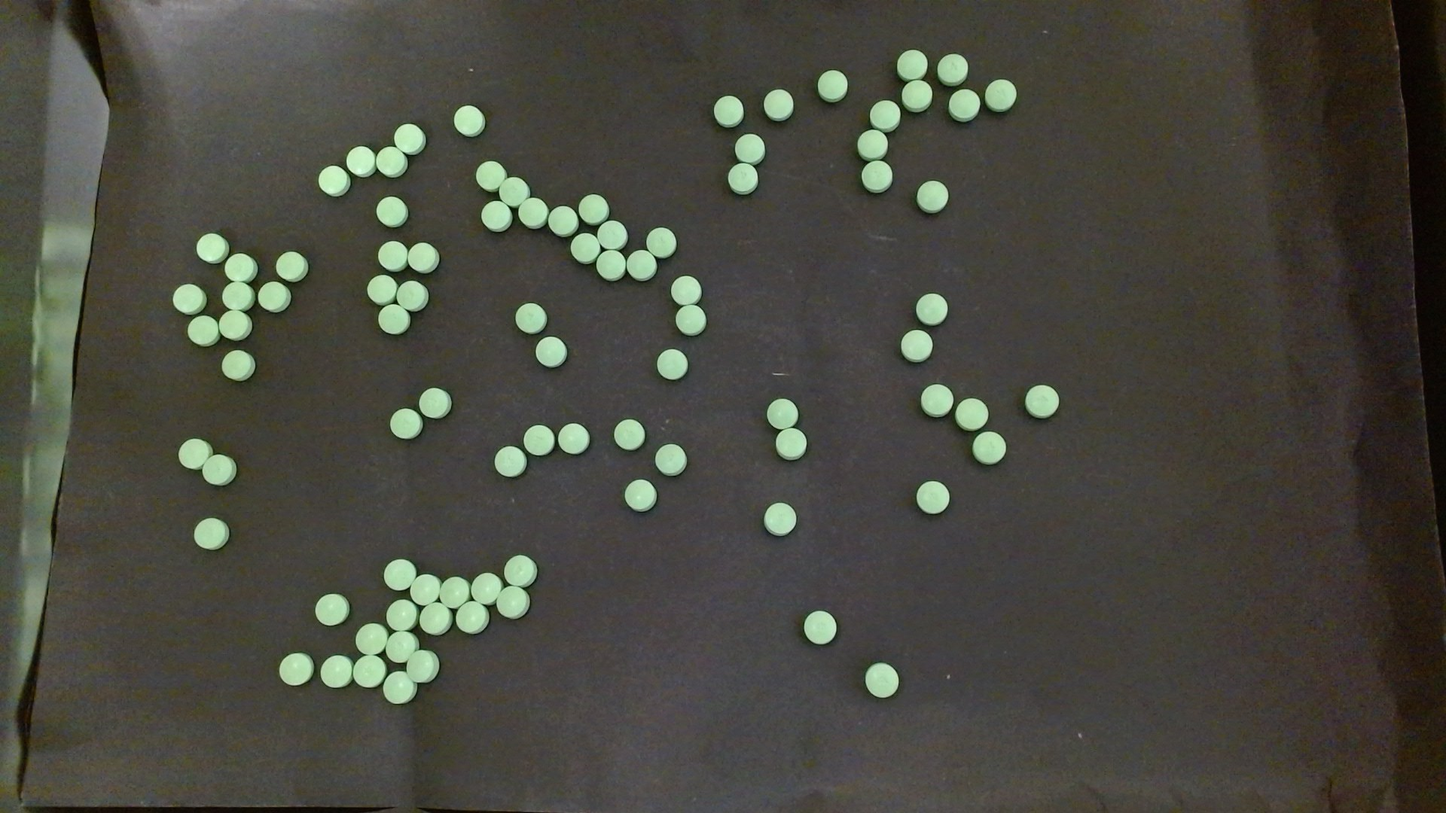Circle: (864, 662, 899, 699), (1023, 385, 1060, 419), (802, 609, 837, 644), (278, 652, 313, 687), (314, 592, 350, 626), (193, 517, 230, 550), (495, 585, 530, 619), (352, 653, 386, 688), (319, 654, 353, 688), (456, 600, 489, 634), (178, 437, 212, 470), (382, 671, 416, 704), (654, 443, 687, 476), (920, 383, 953, 416), (972, 431, 1005, 464), (916, 480, 949, 513), (355, 623, 388, 656), (955, 397, 987, 431), (712, 94, 744, 128), (221, 349, 255, 381), (419, 601, 451, 635), (172, 283, 206, 315), (764, 502, 796, 536), (275, 250, 309, 282), (915, 292, 948, 324), (624, 480, 657, 512), (984, 78, 1016, 111), (947, 87, 979, 120), (916, 181, 949, 213), (202, 454, 235, 486), (405, 650, 438, 682), (383, 559, 416, 591), (187, 314, 220, 346), (218, 309, 252, 340), (775, 428, 807, 460), (901, 330, 933, 362), (558, 422, 590, 454), (816, 69, 848, 101), (504, 554, 536, 586), (396, 279, 428, 311), (493, 446, 526, 477), (861, 160, 892, 193), (386, 598, 417, 631), (452, 105, 485, 136), (258, 281, 291, 312), (221, 281, 255, 311), (390, 408, 422, 439), (614, 419, 645, 451), (318, 165, 350, 196), (857, 128, 888, 160), (766, 398, 798, 429), (419, 387, 451, 418), (471, 572, 502, 604), (514, 302, 546, 333), (377, 303, 409, 334), (675, 304, 706, 336), (656, 348, 688, 379), (386, 631, 417, 663), (901, 79, 932, 111), (375, 196, 407, 227), (763, 88, 794, 120), (410, 574, 441, 606), (377, 239, 408, 271), (196, 232, 228, 263), (393, 123, 425, 154), (224, 252, 257, 282), (535, 336, 566, 367), (439, 577, 470, 608), (407, 242, 438, 273), (727, 163, 758, 194), (869, 99, 900, 130), (480, 200, 511, 231), (671, 274, 702, 305), (517, 197, 548, 228), (375, 146, 406, 177), (937, 53, 968, 84), (896, 49, 927, 80), (523, 425, 554, 455), (734, 132, 764, 163), (626, 250, 656, 281), (597, 220, 627, 251), (578, 194, 609, 224), (499, 176, 529, 207), (475, 160, 506, 190), (646, 227, 676, 257), (367, 274, 397, 304), (548, 206, 578, 236), (596, 249, 625, 280), (346, 145, 375, 176), (570, 233, 599, 263)
